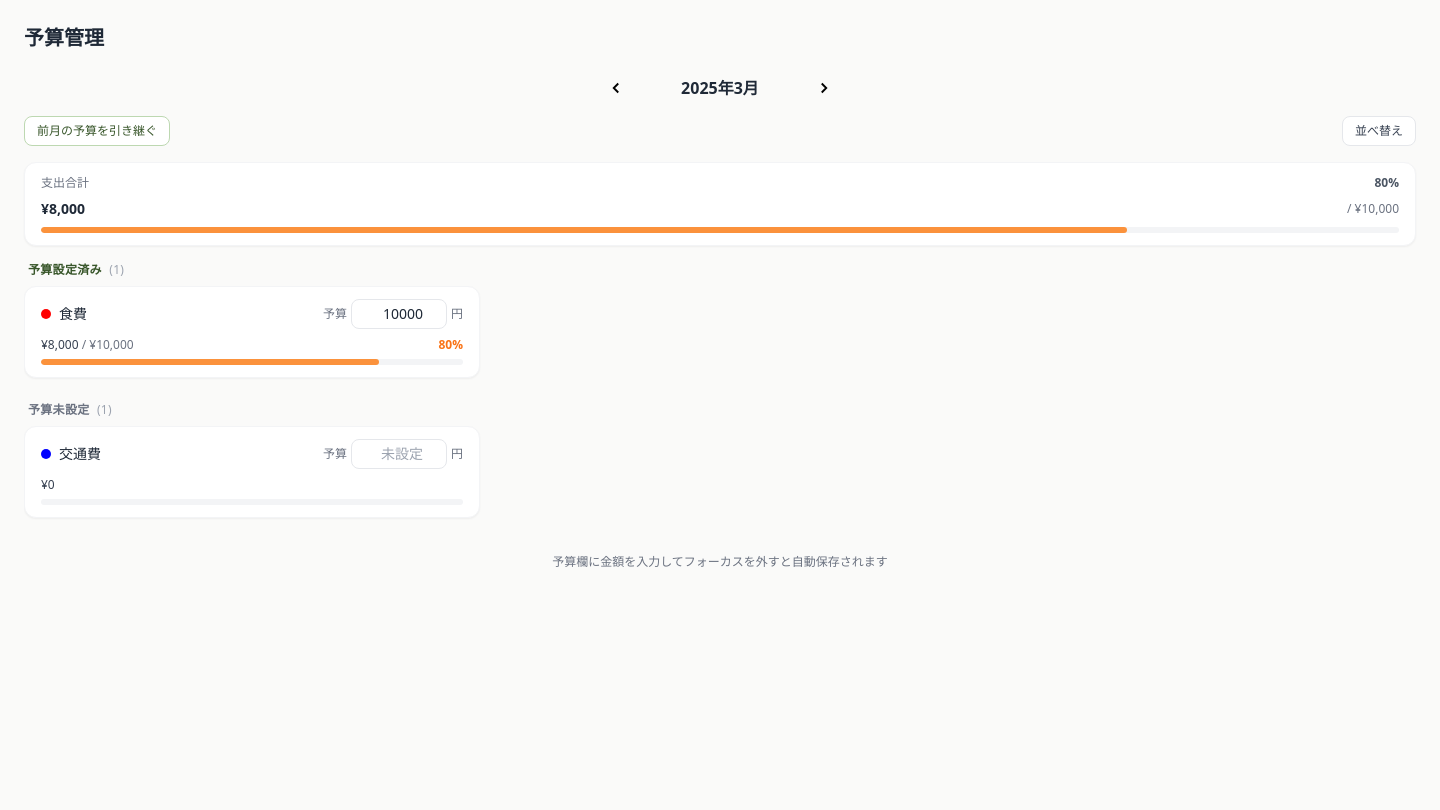
it: BudgetPage - 並べ替えモード › 並べ替えボタンで isReordering トグル、ボタンが「完了」になる
Click the button "並べ替え" at (1379, 131), box [1342, 116, 1416, 146]
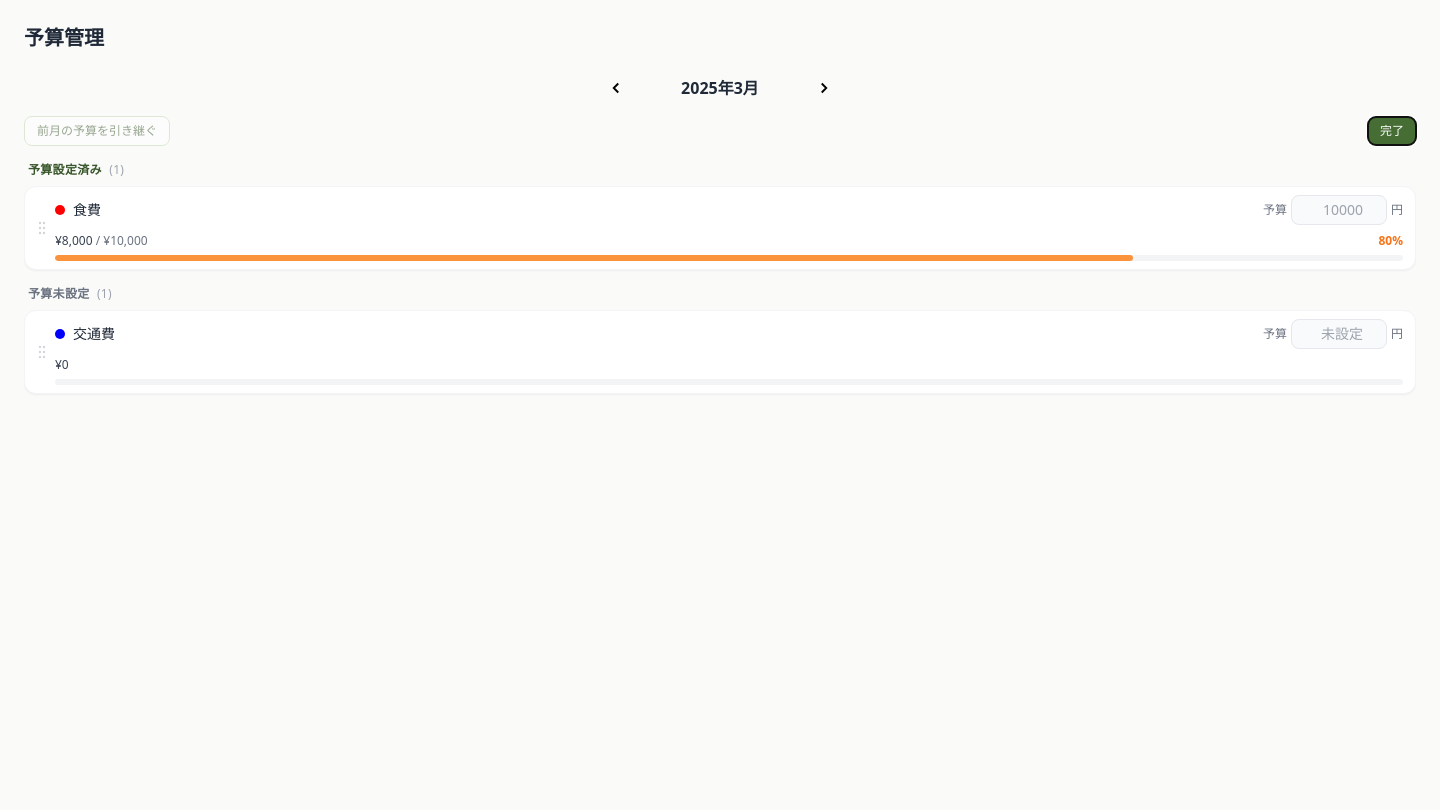
Check: the button "完了" is shown, box [1368, 117, 1416, 145]
